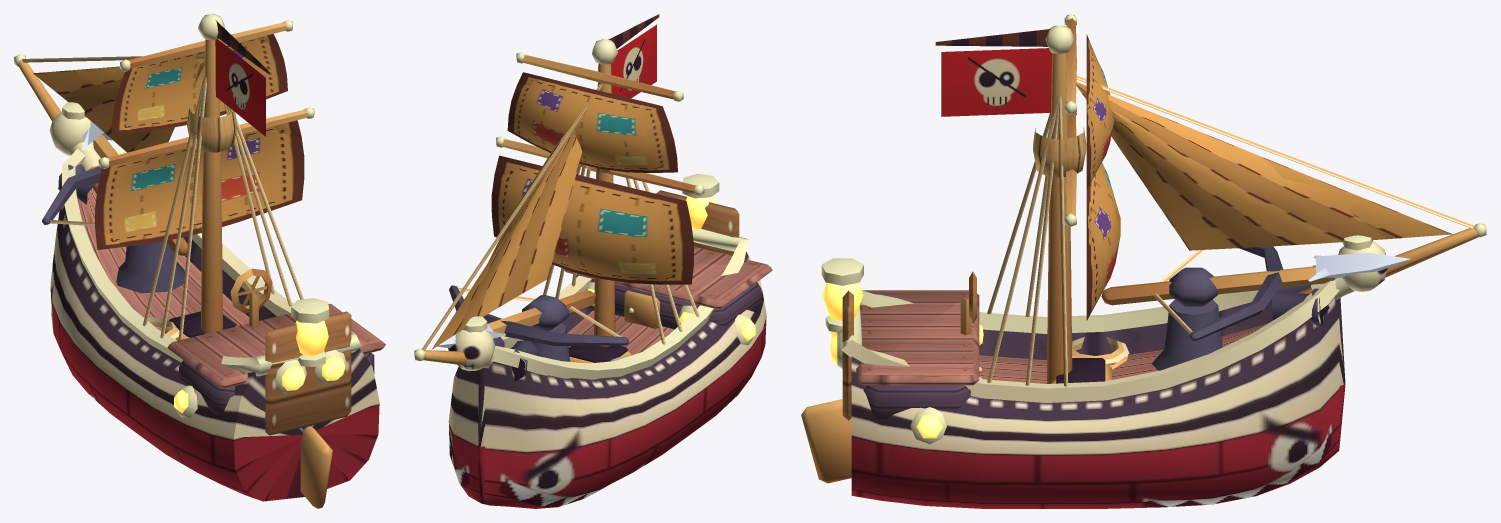
Rendered from brethren_chaser.glb.
The picture shows the model from 3 angles, left to right: view 1: azimuth 30°, elevation 25°; view 2: azimuth 150°, elevation 25°; view 3: azimuth 270°, elevation 25°; orthographic projection. The views are drawn at different scales.
Parts seen in each view (by area): view 1: Hull, Rigging, Sail0_0, Sail0_1, Guns0, Jib, Flag; view 2: Hull, Sail0_0, Sail0_1, Jib, Rigging, Guns0, Flag; view 3: Hull, Jib, Rigging, Guns0, Flag, Sail0_0, Sail0_1.
Boxes of the visible parts, bbox=[...] form: Hull: bbox=[49, 102, 385, 508]; Rigging: bbox=[14, 14, 314, 340]; Sail0_0: bbox=[95, 120, 304, 249]; Sail0_1: bbox=[111, 34, 287, 133]; Guns0: bbox=[42, 121, 187, 293]; Jib: bbox=[33, 59, 204, 152]; Flag: bbox=[215, 20, 268, 136]; Hull: bbox=[448, 173, 772, 508]; Sail0_0: bbox=[491, 155, 693, 284]; Sail0_1: bbox=[507, 72, 677, 172]; Jib: bbox=[432, 116, 582, 349]; Rigging: bbox=[414, 39, 704, 368]; Guns0: bbox=[434, 285, 629, 381]; Flag: bbox=[608, 14, 659, 98]; Hull: bbox=[801, 235, 1387, 508]; Jib: bbox=[1076, 82, 1452, 250]; Rigging: bbox=[987, 14, 1486, 386]; Guns0: bbox=[1101, 246, 1409, 370]; Flag: bbox=[935, 29, 1051, 116]; Sail0_0: bbox=[1086, 162, 1120, 320]; Sail0_1: bbox=[1086, 34, 1114, 189].
Size of the model in its own units: 1.21 by 2.27 by 3.07.
Materials: 8 (8 with a texture image).
